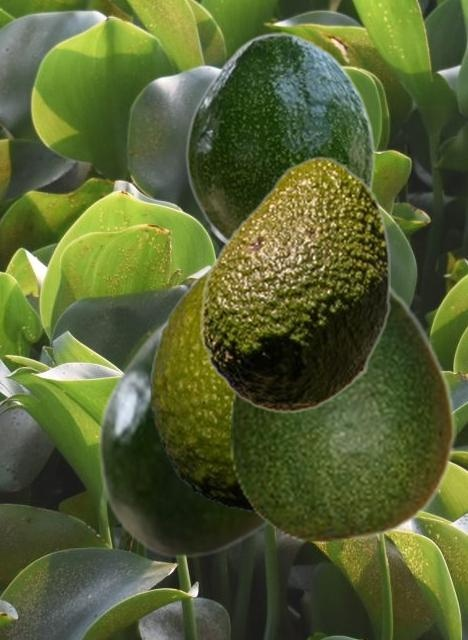avocado: (228, 280, 455, 542), (200, 156, 389, 413), (96, 317, 267, 558), (185, 32, 374, 241), (149, 262, 255, 513)
